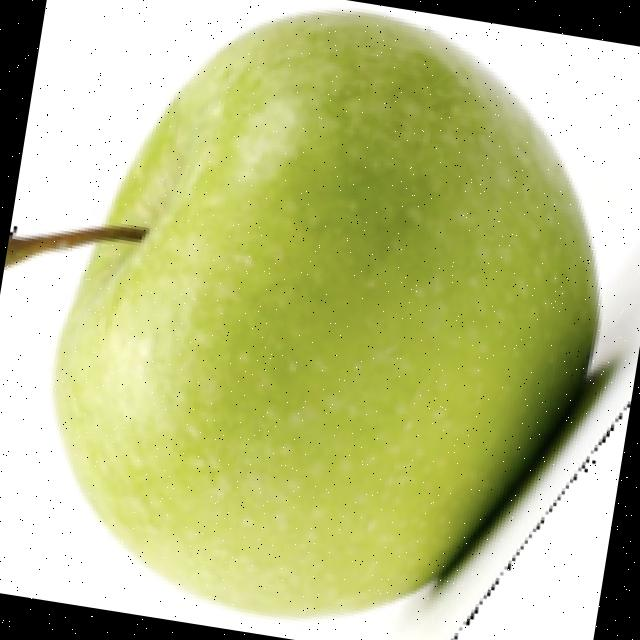apple: (8, 3, 640, 632)
